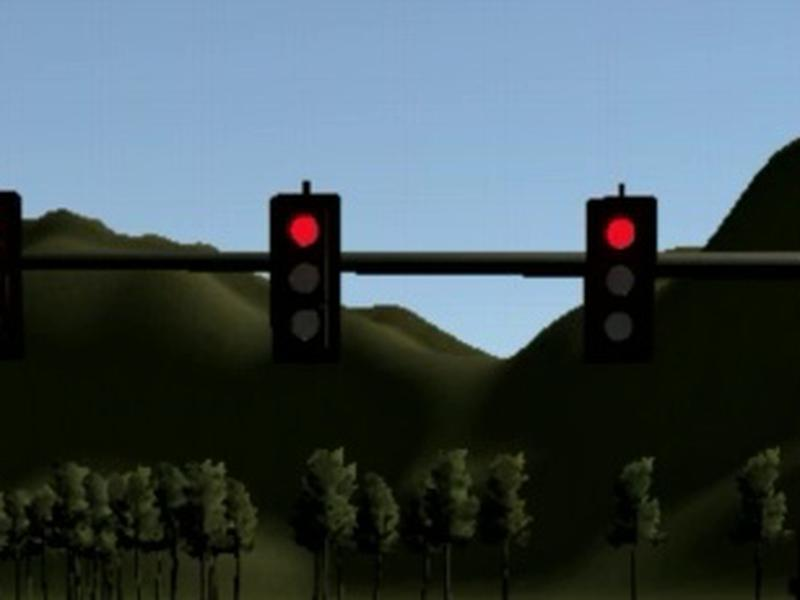Red: (583, 194, 657, 361), (268, 193, 342, 357)
